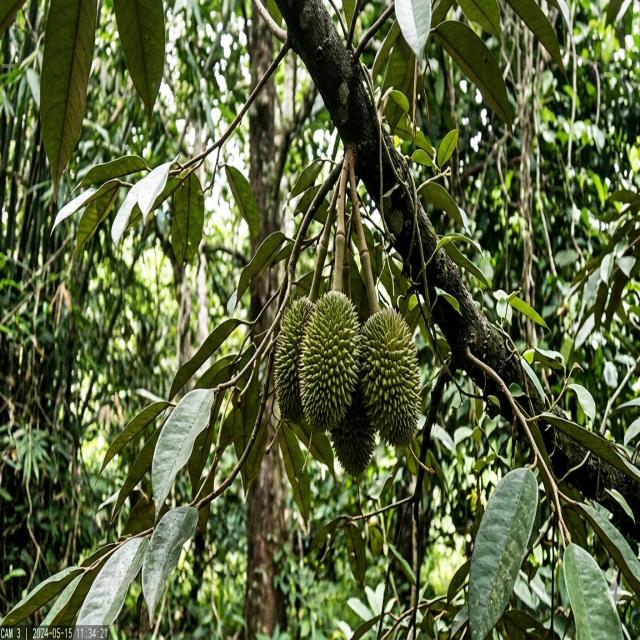immature: (298, 288, 362, 432), (356, 306, 420, 446), (273, 293, 317, 424), (280, 295, 316, 345)
